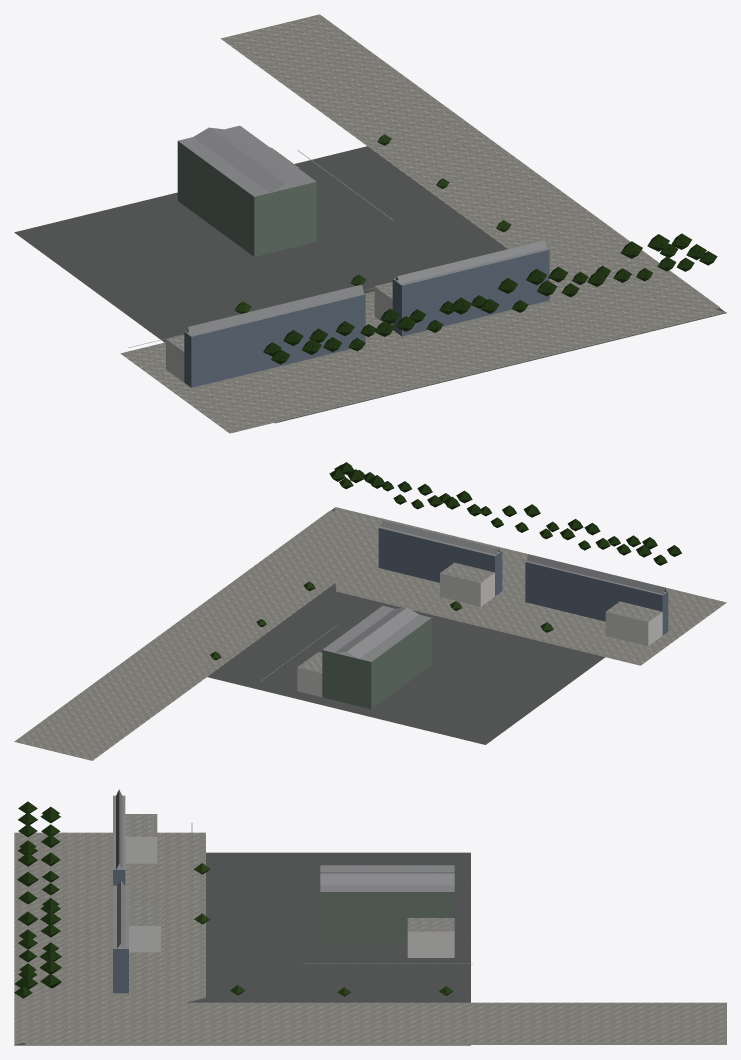
File: cidade_S07_00_lod.gltf
3 views of the same model, one above another, from view 1: azimuth 30°, elevation 25°; view 2: azimuth 150°, elevation 25°; view 3: azimuth 270°, elevation 25° (orthographic). The views are drawn at different scales.
Visible parts, largest first — view 1: S07_00_Chao_LOD2, S07_00_Edificios_LOD1, S07_00_Silhueta_LOD2, S07_00_Vegetacao_LOD2; view 2: S07_00_Chao_LOD2, S07_00_Edificios_LOD1, S07_00_Silhueta_LOD2, S07_00_Vegetacao_LOD2; view 3: S07_00_Chao_LOD2, S07_00_Edificios_LOD1, S07_00_Silhueta_LOD2, S07_00_Vegetacao_LOD2.
Boxes of the visible parts, box(x1,y1,x2,y2) form: S07_00_Chao_LOD2: box(14, 14, 726, 433); S07_00_Edificios_LOD1: box(128, 127, 549, 387); S07_00_Silhueta_LOD2: box(177, 125, 549, 387); S07_00_Vegetacao_LOD2: box(234, 134, 717, 364); S07_00_Chao_LOD2: box(14, 507, 726, 760); S07_00_Edificios_LOD1: box(260, 520, 668, 708); S07_00_Silhueta_LOD2: box(322, 526, 668, 708); S07_00_Vegetacao_LOD2: box(210, 462, 681, 660); S07_00_Chao_LOD2: box(14, 832, 726, 1045); S07_00_Edificios_LOD1: box(113, 789, 472, 993); S07_00_Silhueta_LOD2: box(113, 795, 454, 993); S07_00_Vegetacao_LOD2: box(14, 801, 453, 998).
Bounding box in the file's own units: 110 × 15.97 × 156.
Materials: 9 (9 with a texture image).
